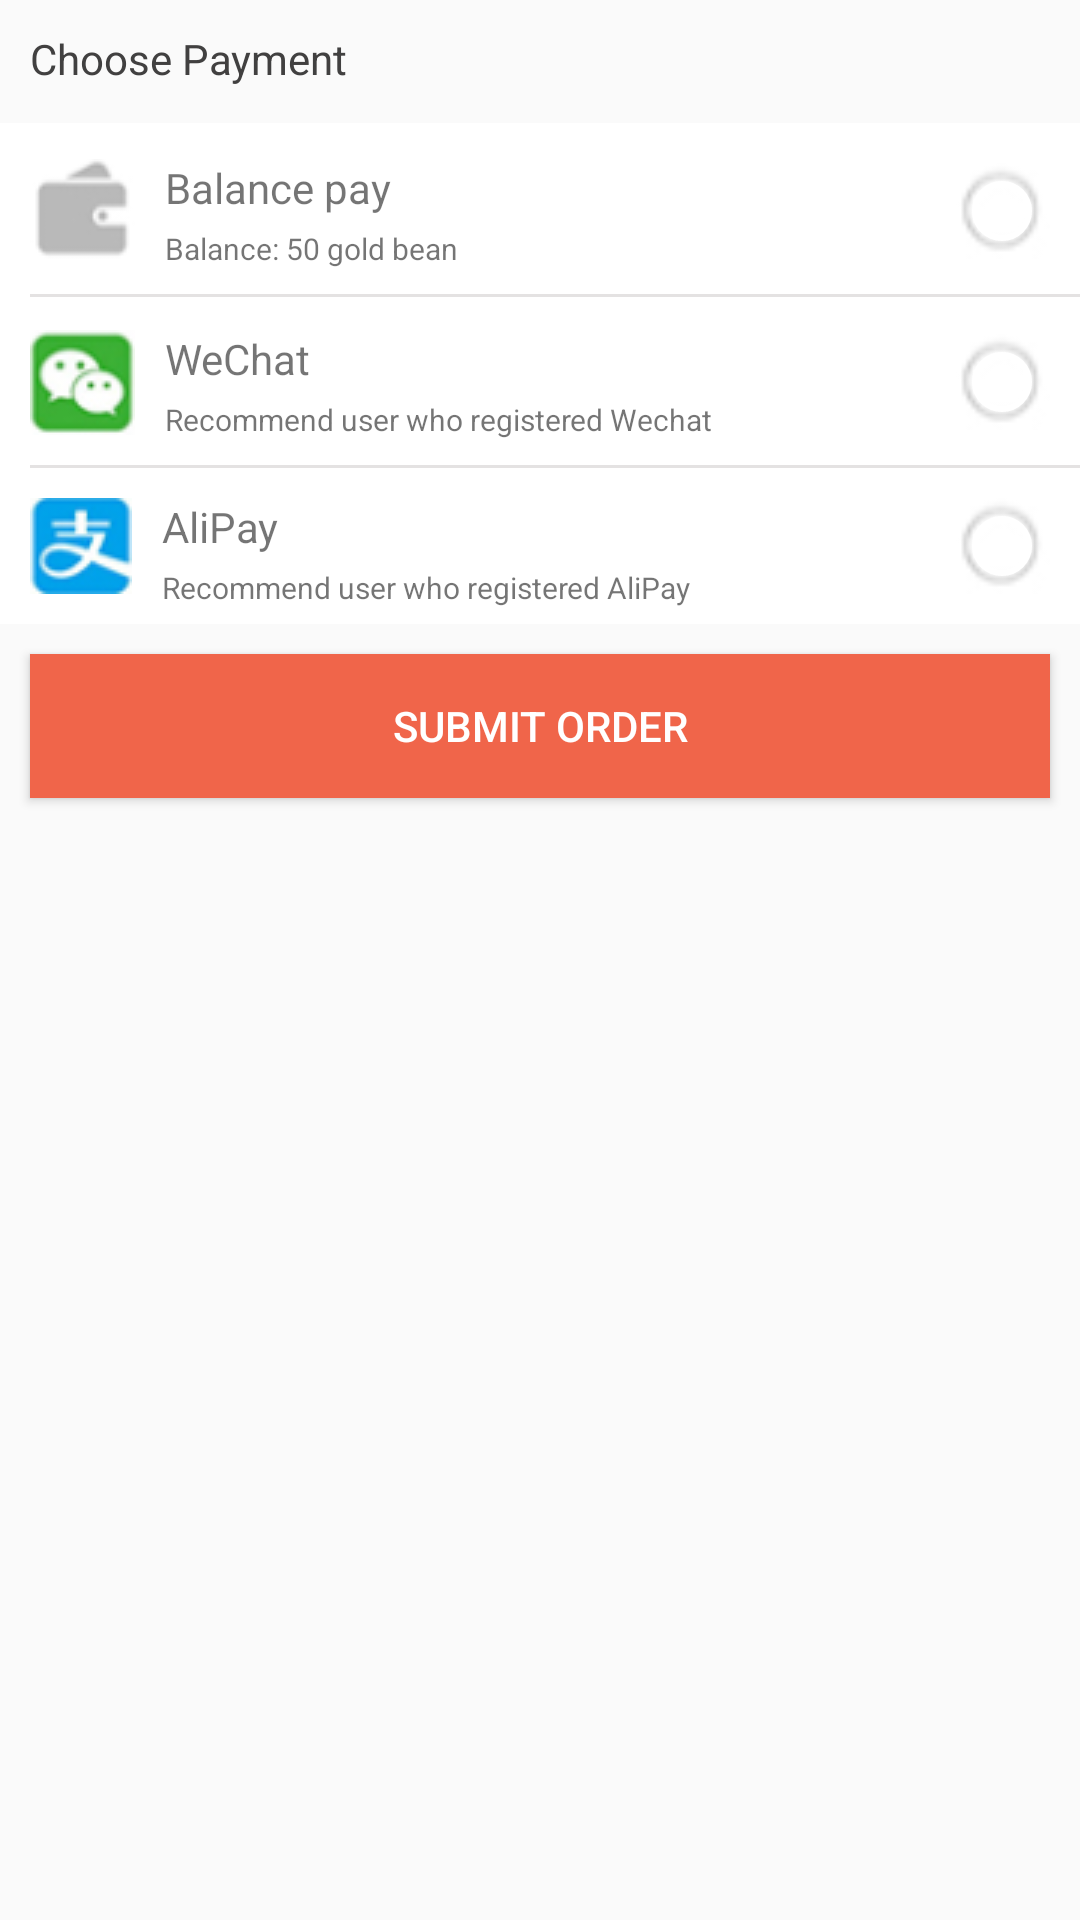

Where to tap for icons on this 1080w x 1920h app screen, as (x=x, y=y):
remainder pay: (x=82, y=208)
